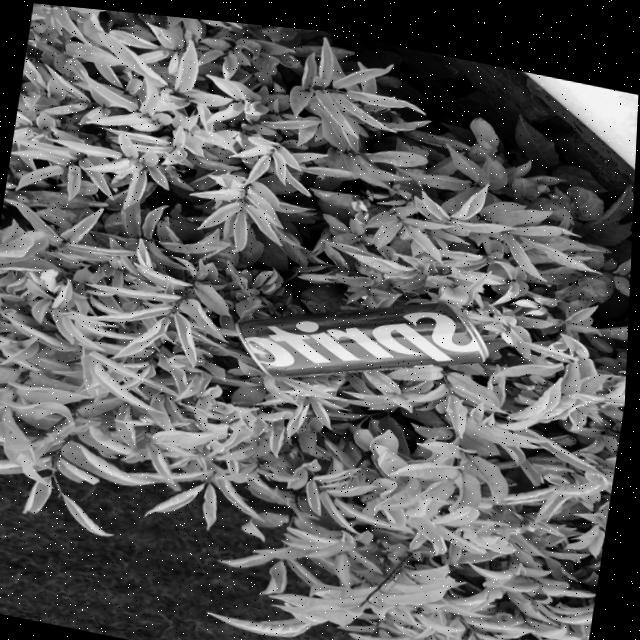Sprite: (222, 255, 492, 402)
